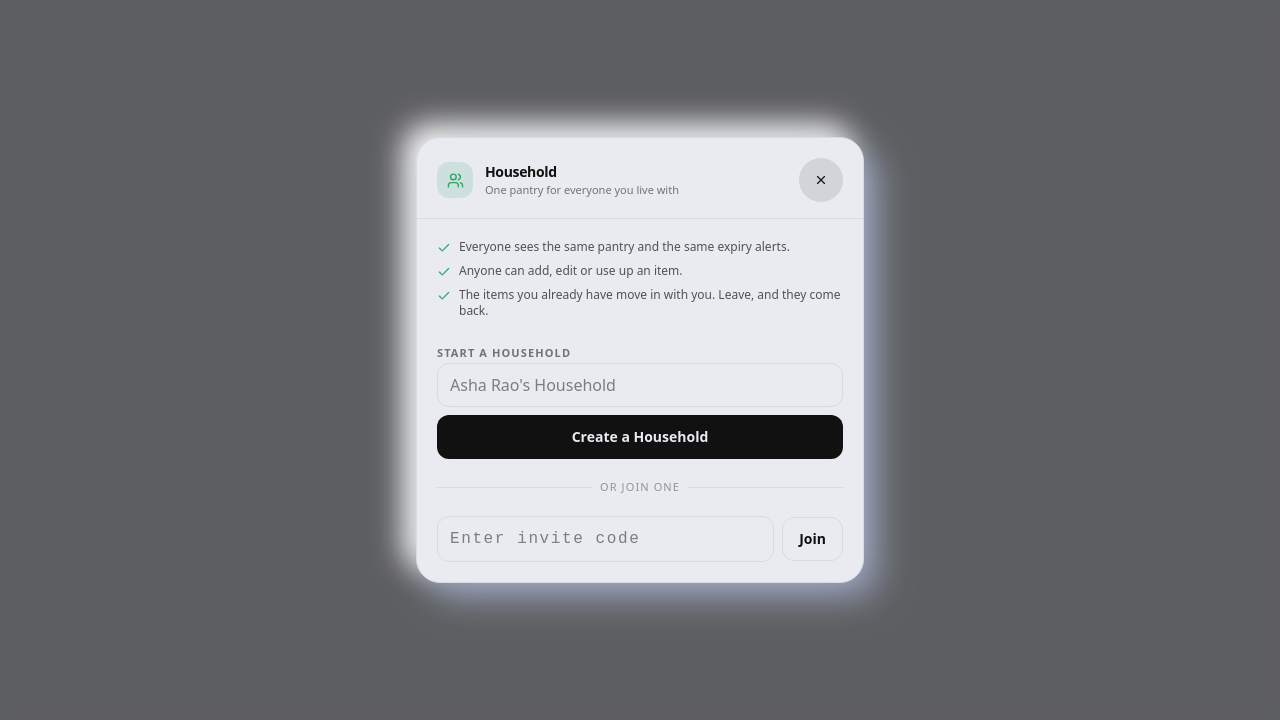
HouseholdModal — joining › says the code is invalid when the database refuses it, and does not refresh
Type "nope" into the field with placeholder "Enter invite code" at (606, 539), box [437, 516, 774, 562]
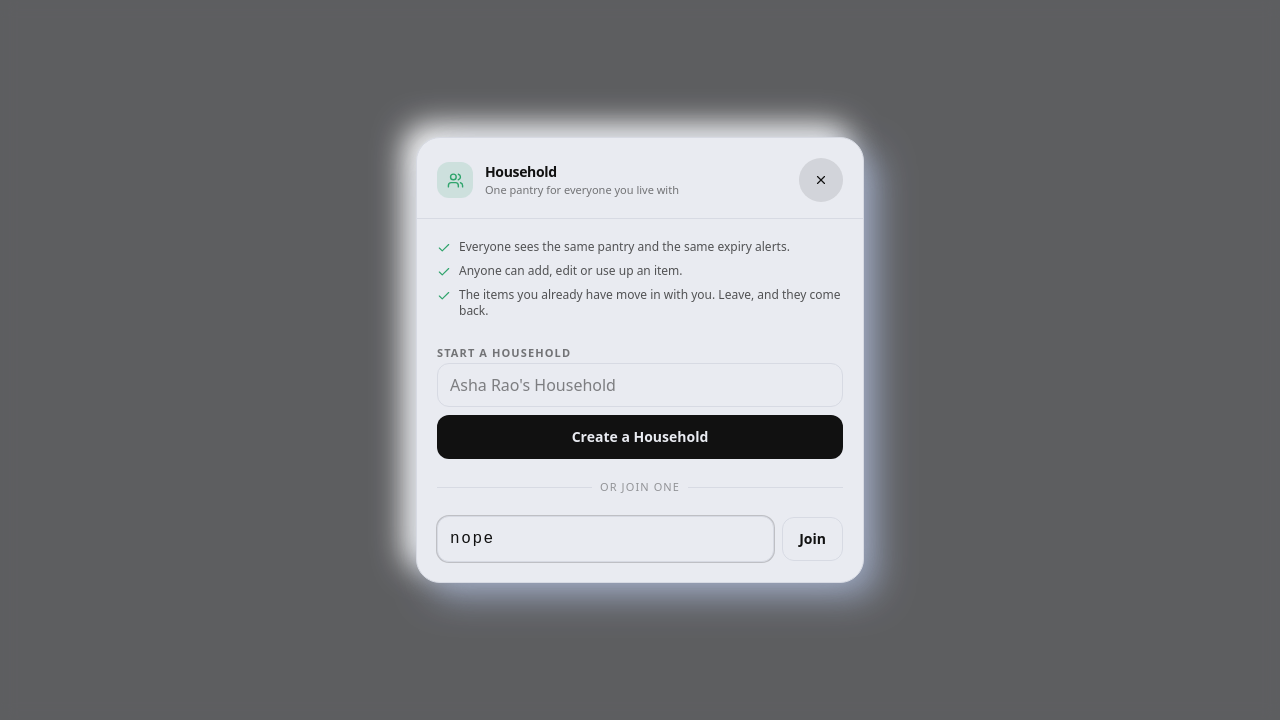
Click the button "Join" at (813, 539), box [782, 517, 843, 561]
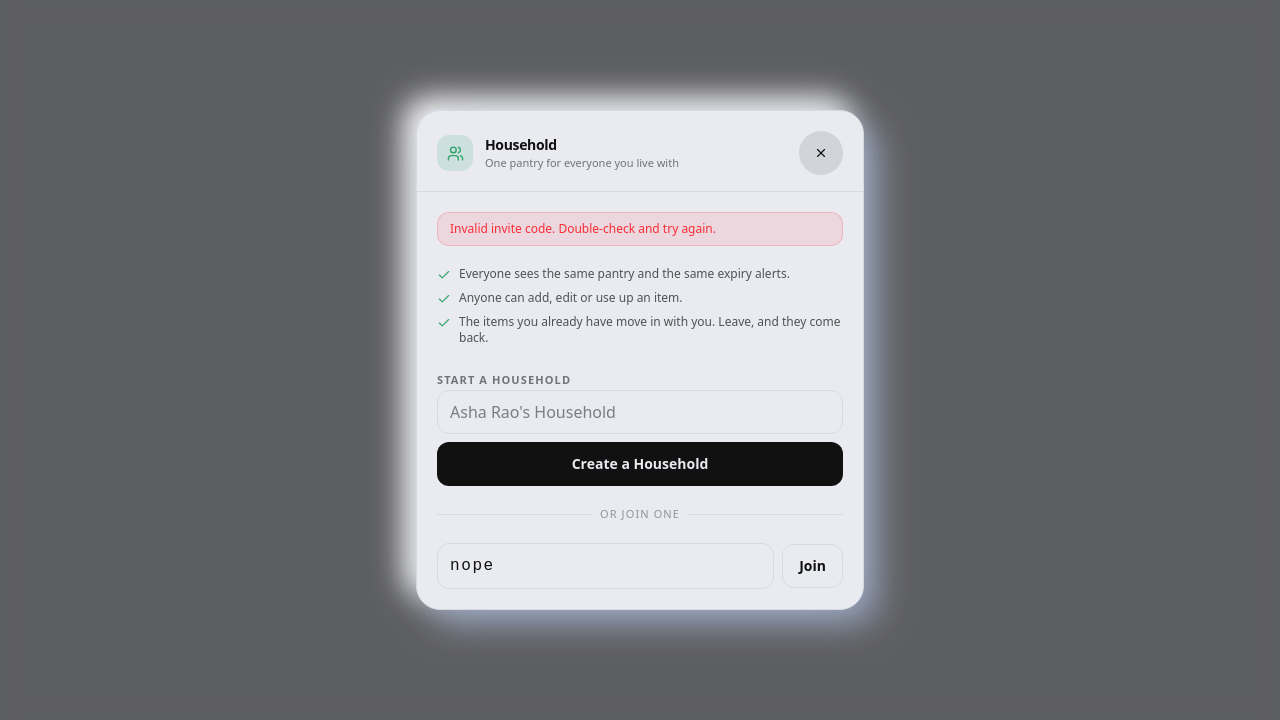
Result: the text "Invalid invite code. Double-check and try again." is shown at [450, 220, 716, 237]
